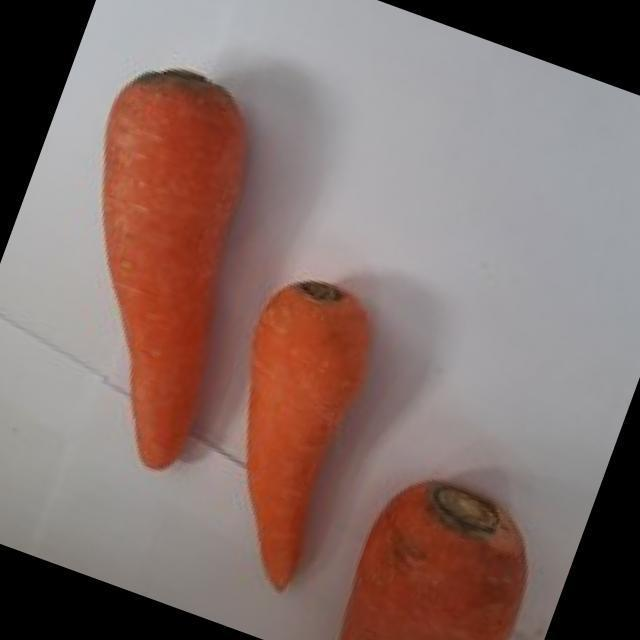carrot: (104, 70, 248, 468), (248, 281, 368, 589), (340, 481, 526, 639)
